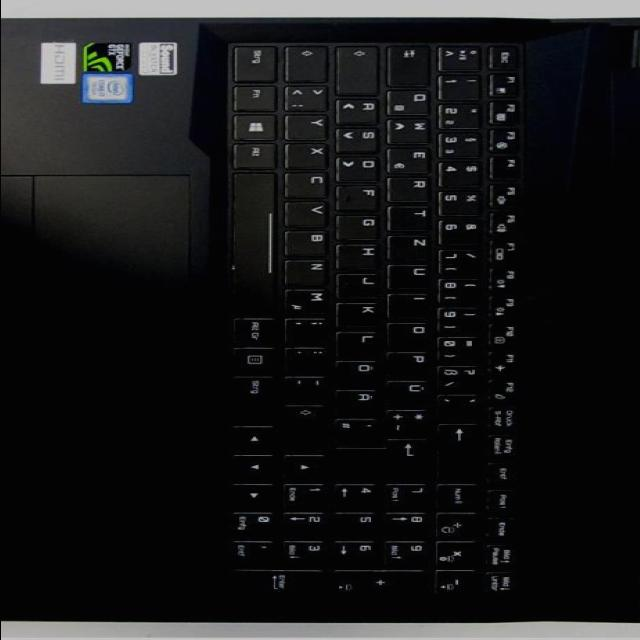0: (441, 333, 487, 359)
1: (442, 72, 486, 98)
2: (442, 101, 488, 127)
3: (442, 129, 488, 155)
4: (442, 159, 486, 185)
5: (442, 188, 486, 214)
6: (442, 217, 488, 243)
7: (442, 246, 488, 272)
8: (441, 275, 487, 301)
9: (441, 304, 487, 330)
a: (340, 96, 386, 122)
accent: (441, 392, 485, 418)
ae: (338, 386, 384, 412)
alt-left: (237, 140, 283, 166)
altgr-right: (237, 315, 283, 342)
b: (288, 227, 334, 254)
c: (288, 169, 334, 196)
caret: (442, 42, 488, 68)
comma: (287, 315, 334, 341)
d: (340, 153, 386, 179)
del: (441, 420, 487, 478)
e: (391, 145, 437, 171)
enter: (337, 435, 435, 477)
f: (338, 183, 385, 209)
g: (340, 212, 386, 238)
h: (340, 241, 384, 267)
hash: (337, 416, 384, 442)
i: (391, 291, 435, 317)
j: (338, 270, 385, 296)
k: (340, 299, 386, 325)
keyboard: (221, 30, 538, 600)
l: (340, 329, 386, 355)
less: (288, 83, 335, 109)
m: (287, 286, 334, 312)
minus: (289, 373, 333, 399)
n: (287, 257, 334, 284)
o: (391, 319, 435, 345)
oe: (338, 357, 384, 383)
p: (391, 348, 435, 374)
plus: (389, 406, 435, 432)
point: (287, 344, 333, 370)
q: (391, 87, 437, 113)
r: (391, 174, 437, 200)
s: (340, 125, 386, 151)
shift-left: (290, 42, 334, 80)
shift-lock: (340, 43, 386, 93)
shift-right: (286, 402, 334, 448)
space: (235, 170, 283, 312)
ss: (441, 362, 487, 388)
strg-left: (237, 41, 284, 80)
strg-right: (235, 372, 283, 420)
t: (392, 203, 436, 229)
tab: (391, 43, 439, 83)
u: (391, 261, 437, 287)
ue: (389, 377, 435, 403)
v: (288, 199, 334, 225)
w: (391, 115, 438, 142)
x: (288, 141, 334, 167)
y: (288, 112, 334, 138)
z: (391, 232, 437, 258)
